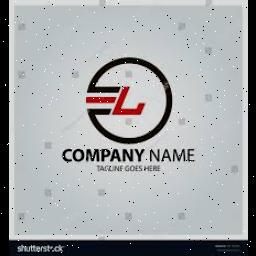l: (109, 84, 147, 118)
